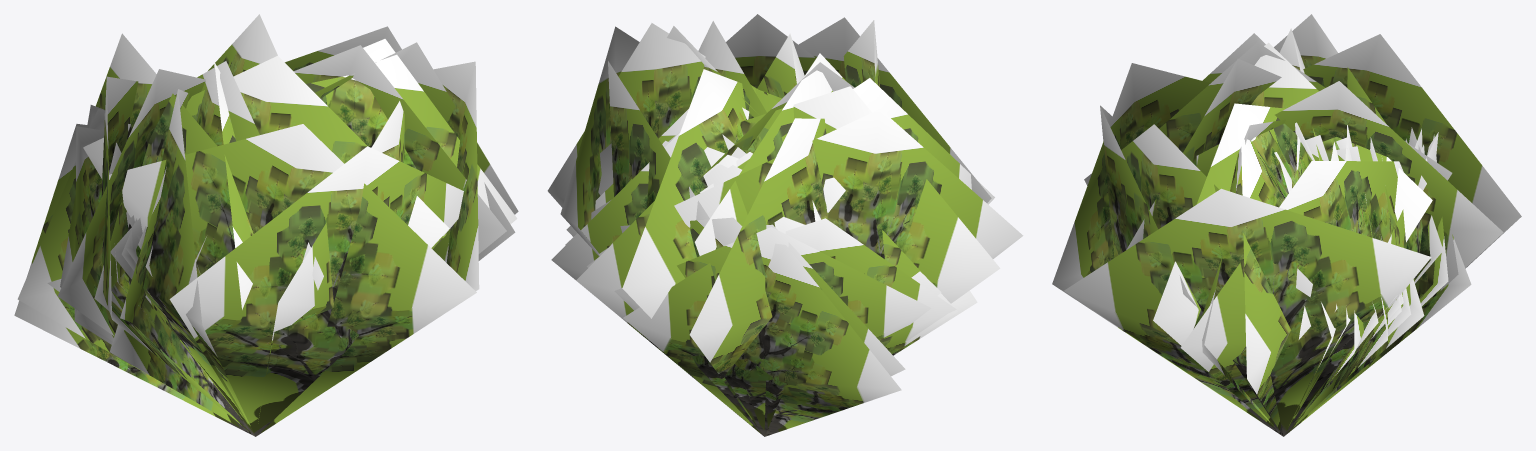
Rendered from bush.glb.
3 renders of one model, left to right at view 1: azimuth 30°, elevation 25°; view 2: azimuth 150°, elevation 25°; view 3: azimuth 270°, elevation 25°, orthographic. The views are drawn at different scales.
Visible parts, largest first — view 1: bush_Buisson_02_Atlas; view 2: bush_Buisson_02_Atlas; view 3: bush_Buisson_02_Atlas.
Boxes of the visible parts, x1,y1,x2,y2 form: bush_Buisson_02_Atlas: (14, 14, 518, 436); bush_Buisson_02_Atlas: (547, 14, 1023, 436); bush_Buisson_02_Atlas: (1052, 14, 1521, 436).
Bounding box in the file's own units: 6.08 × 5 × 5.64.
1 material, 1 textured.
